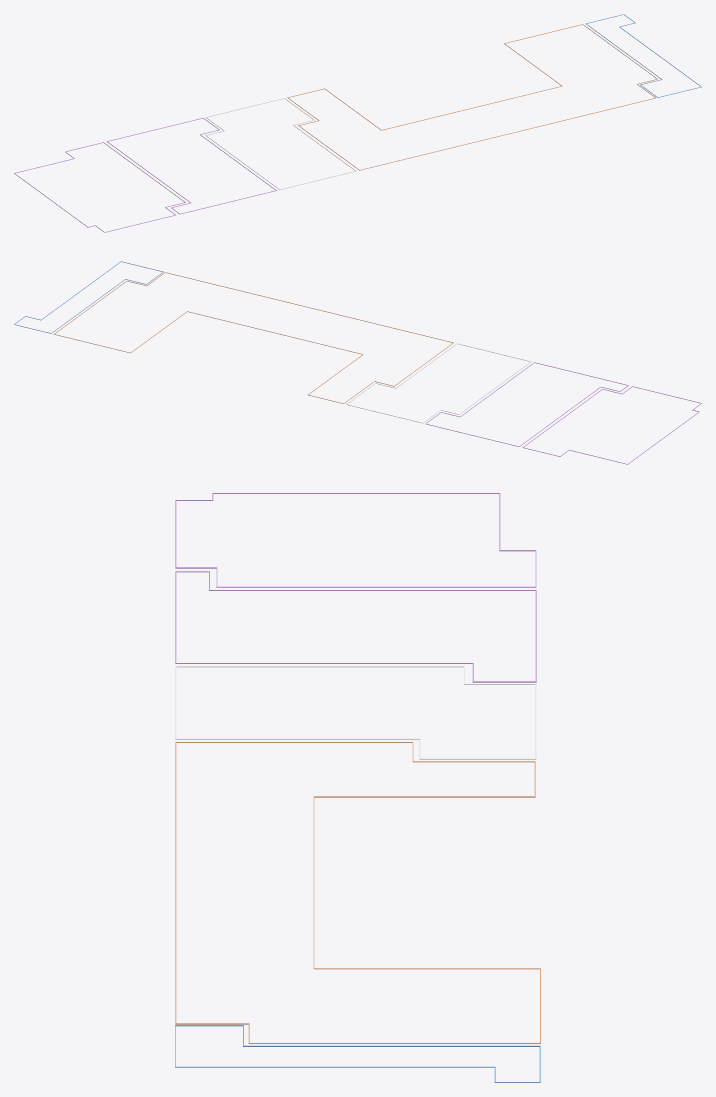
Rendered from remark.glb.
3 renders of one model, top to bottom at view 1: azimuth 30°, elevation 25°; view 2: azimuth 150°, elevation 25°; view 3: azimuth 270°, elevation 25°, orthographic. The views are drawn at different scales.
Visible parts, largest first — view 1: 立方体.2; view 2: 立方体.2; view 3: no part large enough to name.
Part boxes in pixels (box(x1,y1,x2,y2)): 立方体.2: box(359, 98, 655, 170); 立方体.2: box(165, 272, 453, 342).
Bounding box in the file's own units: 4245 × 2.5 × 1115.
